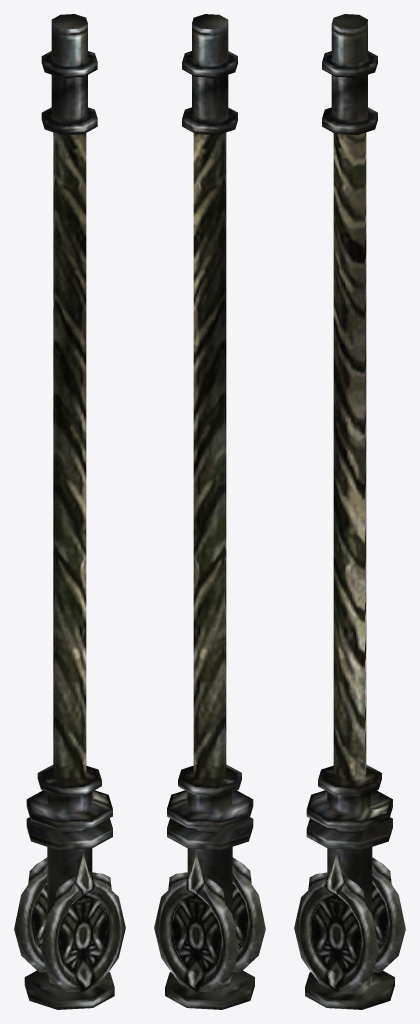
Rendered from jiaolong_grip_default.FBX.
3 renders of one model, left to right at view 1: azimuth 30°, elevation 25°; view 2: azimuth 150°, elevation 25°; view 3: azimuth 330°, elevation 25°, orthographic.
Visible parts, largest first — view 1: jiaolong_grip_default; view 2: jiaolong_grip_default; view 3: jiaolong_grip_default.
Boxes of the visible parts, left/top/right/bottom form: jiaolong_grip_default: left=14, top=14, right=125, bottom=1009; jiaolong_grip_default: left=154, top=14, right=265, bottom=1009; jiaolong_grip_default: left=294, top=14, right=405, bottom=1009.
Size of the model in its own units: 13.03 by 142 by 12.34.
1 material, 1 textured.
